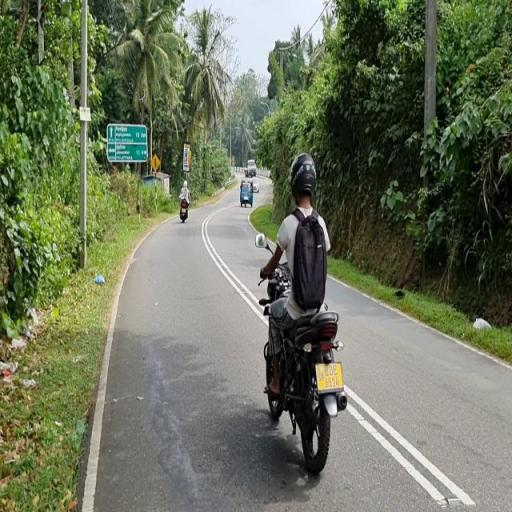double_white_line: (339, 382, 478, 507)
